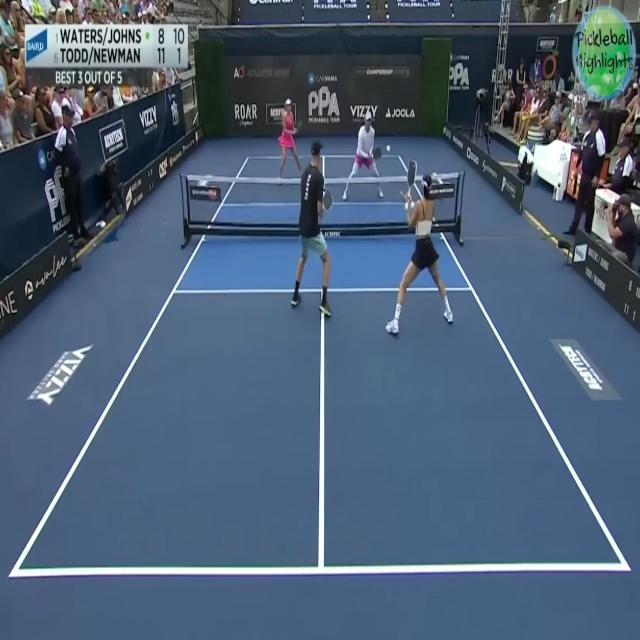Pickleball: (384, 141, 392, 153)
